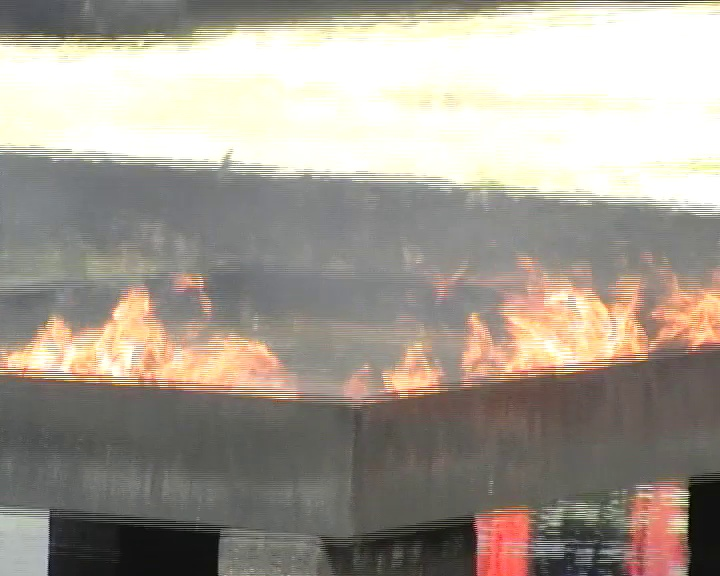fire: (3, 284, 284, 383), (462, 270, 719, 378), (387, 340, 440, 389)
